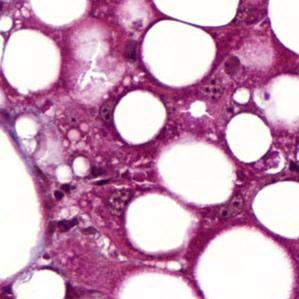steatosis: (137, 22, 217, 89), (3, 28, 61, 96), (115, 86, 170, 147), (223, 112, 275, 165)
